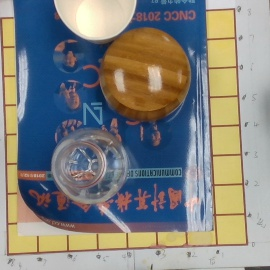bottle: (50, 128, 128, 204)
chess: (101, 28, 189, 123)
cup: (50, 1, 137, 42)
